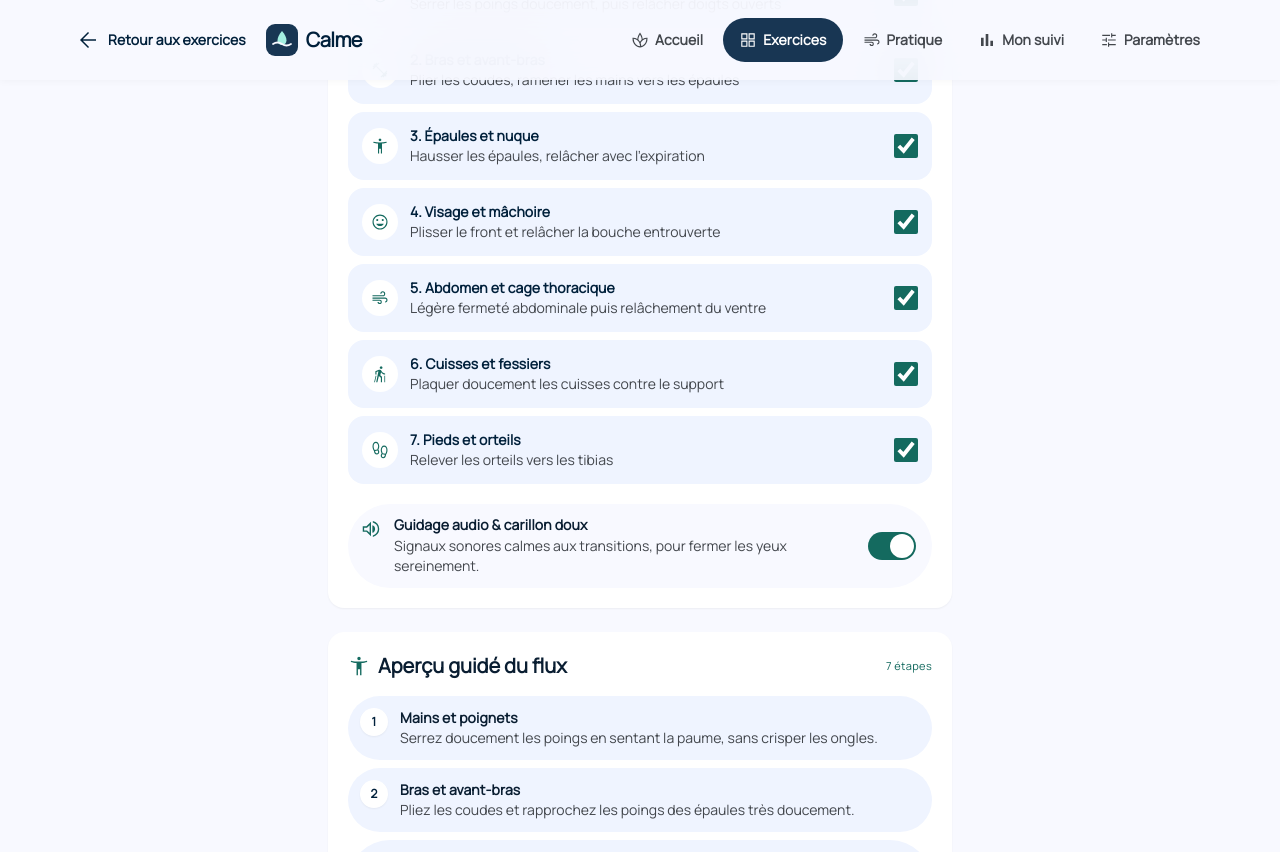
exercise detail › muscle relaxation lets the user exclude a sensitive zone
The width and height of the screenshot is (1280, 852).
(page scrolled)
Click the checkbox named "Inclure : Pieds et orteils" at [906, 450], box [894,438,918,462]
(page scrolled)
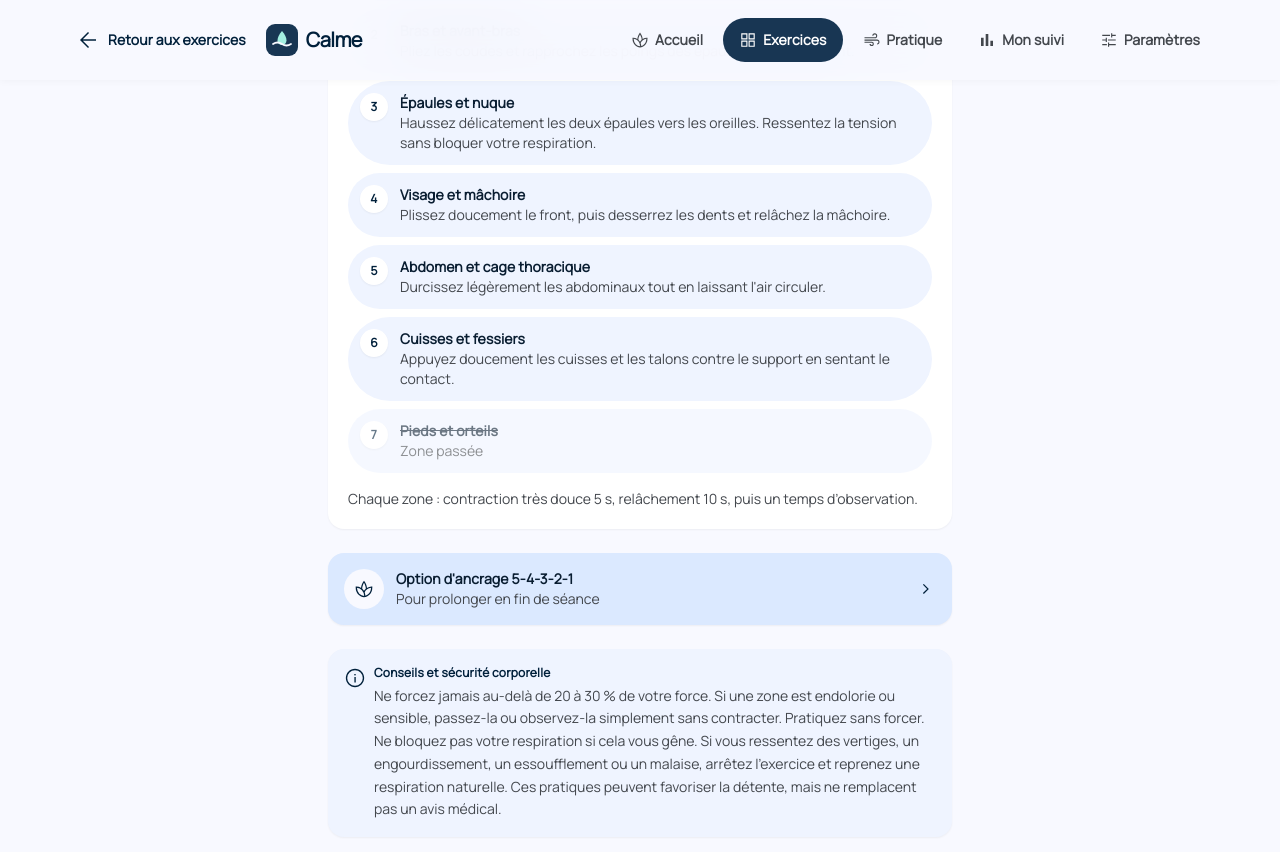
Check: the text "Zone passée" is shown, box [400,440,498,460]
